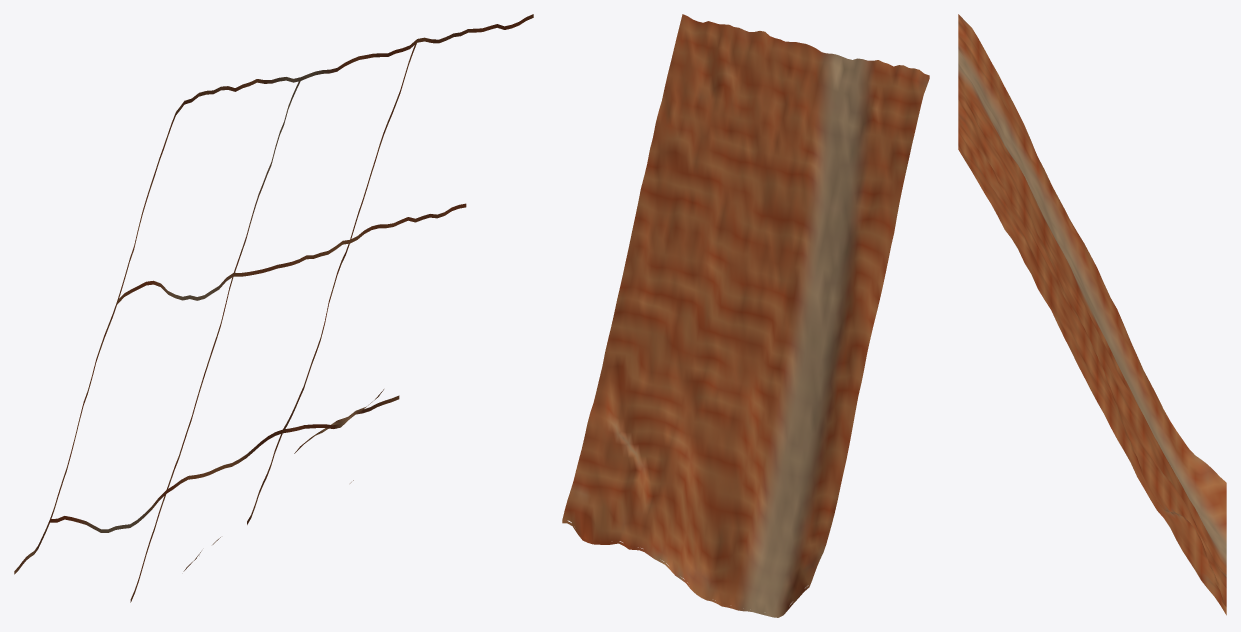
The model's file is terrain-140.glb.
3 views of the same model, side by side, from view 1: azimuth 30°, elevation 25°; view 2: azimuth 150°, elevation 25°; view 3: azimuth 270°, elevation 25° (orthographic). The views are drawn at different scales.
Visible parts, largest first — view 1: terrain-140; view 2: terrain-140; view 3: terrain-140.
Part boxes in pixels (box(x1,y1,x2,y2)): terrain-140: box(14, 14, 533, 602); terrain-140: box(562, 14, 929, 617); terrain-140: box(958, 14, 1226, 615).
Bounding box in the file's own units: 384 × 695 × 324.
